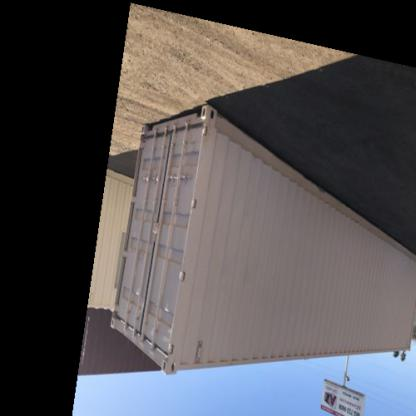Damage: (306, 204, 342, 226)
